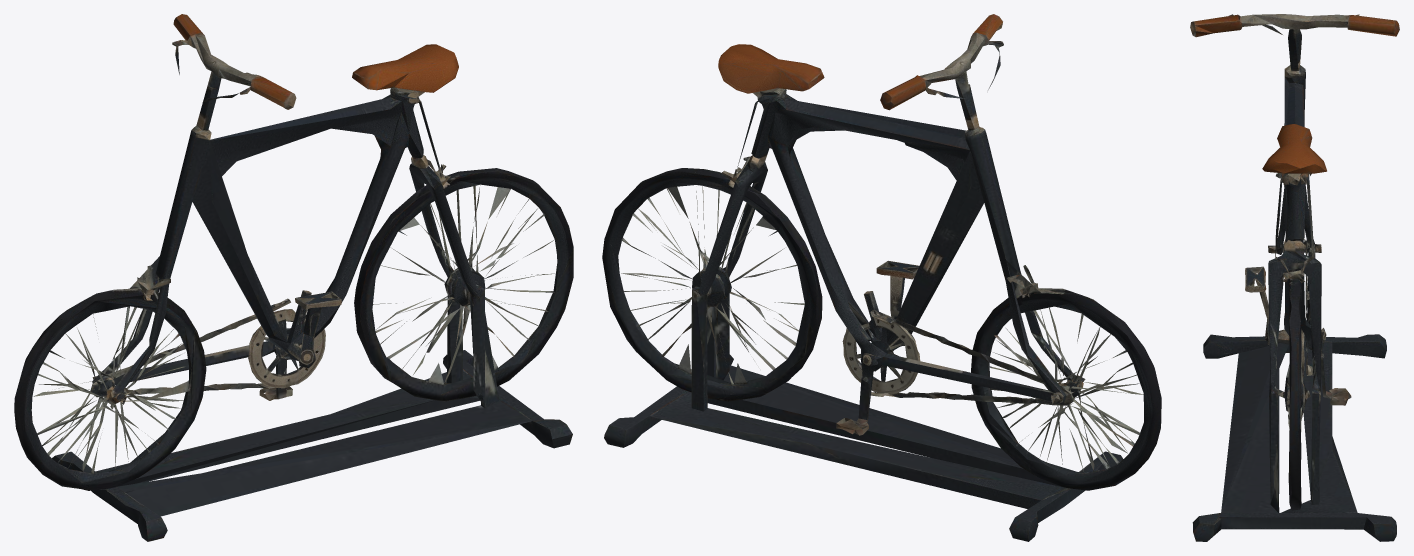
File: mj-gym-cycle-machine.glb
3 renders of one model, left to right at view 1: azimuth 30°, elevation 25°; view 2: azimuth 150°, elevation 25°; view 3: azimuth 270°, elevation 25°, orthographic. The views are drawn at different scales.
Parts seen in each view (by area): view 1: mj-gym-cycle-machine; view 2: mj-gym-cycle-machine; view 3: mj-gym-cycle-machine.
Boxes of the visible parts, x1,y1,x2,y2 form: mj-gym-cycle-machine: (14,14,573,541); mj-gym-cycle-machine: (602,14,1161,541); mj-gym-cycle-machine: (1190,14,1399,541).
Size of the model in its own units: 1.65 by 1.19 by 0.5753.
1 material, 1 textured.
